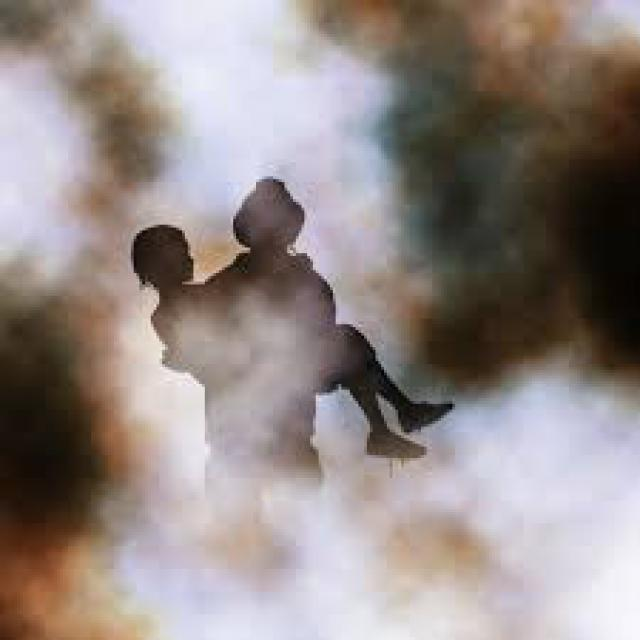smoke: (3, 20, 637, 637)
